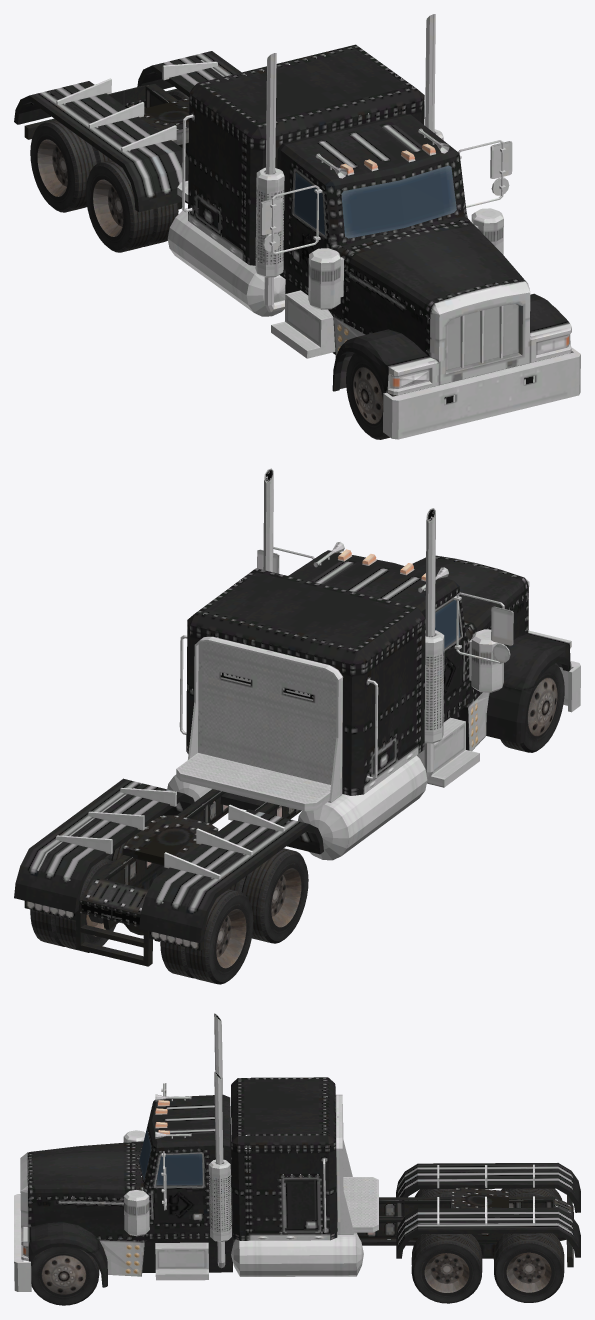
File: Ogre_Semi.obj
The picture shows the model from 3 angles, top to bottom: view 1: azimuth 30°, elevation 25°; view 2: azimuth 150°, elevation 25°; view 3: azimuth 270°, elevation 25°; orthographic projection. The views are drawn at different scales.
Visible parts, largest first — view 1: DrawCall_0794, DrawCall_0798, DrawCall_0803, DrawCall_0807, DrawCall_0804, DrawCall_0800, DrawCall_1057, DrawCall_0819, DrawCall_0796, DrawCall_0821, DrawCall_0802, DrawCall_0806 (+7 smaller); view 2: DrawCall_0794, DrawCall_0798, DrawCall_0796, DrawCall_0821, DrawCall_0819, DrawCall_0807, DrawCall_0802, DrawCall_0795, DrawCall_0800, DrawCall_0806, DrawCall_0818, DrawCall_0820 (+4 smaller); view 3: DrawCall_0794, DrawCall_0798, DrawCall_0807, DrawCall_0797, DrawCall_0799, DrawCall_0820, DrawCall_0817, DrawCall_0795, DrawCall_0816, DrawCall_0801, DrawCall_0805, DrawCall_1058 (+6 smaller).
Boxes of the visible parts, x1=… form: DrawCall_0794: x1=24, y1=44, x2=503, y2=358; DrawCall_0798: x1=14, y1=51, x2=245, y2=212; DrawCall_0803: x1=387, y1=281, x2=571, y2=395; DrawCall_0807: x1=344, y1=221, x2=526, y2=320; DrawCall_0804: x1=383, y1=347, x2=580, y2=439; DrawCall_0800: x1=341, y1=269, x2=429, y2=392; DrawCall_1057: x1=341, y1=165, x2=456, y2=238; DrawCall_0819: x1=86, y1=160, x2=178, y2=252; DrawCall_0796: x1=167, y1=208, x2=285, y2=316; DrawCall_0821: x1=30, y1=120, x2=110, y2=212; DrawCall_0802: x1=255, y1=53, x2=284, y2=312; DrawCall_0806: x1=260, y1=168, x2=327, y2=273; DrawCall_0794: x1=24, y1=550, x2=503, y2=966; DrawCall_0798: x1=14, y1=778, x2=323, y2=943; DrawCall_0796: x1=298, y1=755, x2=427, y2=860; DrawCall_0821: x1=160, y1=889, x2=253, y2=984; DrawCall_0819: x1=229, y1=848, x2=308, y2=943; DrawCall_0807: x1=412, y1=555, x2=528, y2=636; DrawCall_0802: x1=424, y1=508, x2=444, y2=779; DrawCall_0795: x1=451, y1=625, x2=535, y2=750; DrawCall_0800: x1=474, y1=596, x2=570, y2=700; DrawCall_0806: x1=435, y1=592, x2=513, y2=699; DrawCall_0818: x1=500, y1=663, x2=564, y2=752; DrawCall_0820: x1=30, y1=858, x2=116, y2=952; DrawCall_0794: x1=123, y1=1077, x2=573, y2=1280; DrawCall_0798: x1=396, y1=1163, x2=580, y2=1258; DrawCall_0807: x1=27, y1=1142, x2=131, y2=1199; DrawCall_0797: x1=231, y1=1232, x2=363, y2=1276; DrawCall_0799: x1=28, y1=1199, x2=132, y2=1261; DrawCall_0820: x1=493, y1=1233, x2=564, y2=1302; DrawCall_0817: x1=411, y1=1234, x2=482, y2=1303; DrawCall_0795: x1=86, y1=1141, x2=232, y2=1287; DrawCall_0816: x1=29, y1=1246, x2=99, y2=1305; DrawCall_0801: x1=208, y1=1071, x2=231, y2=1268; DrawCall_0805: x1=151, y1=1151, x2=206, y2=1222; DrawCall_1058: x1=156, y1=1153, x2=202, y2=1185.
Bounding box in the file's own units: 3.64 × 4.29 × 9.51.
7 materials, 6 textured.
